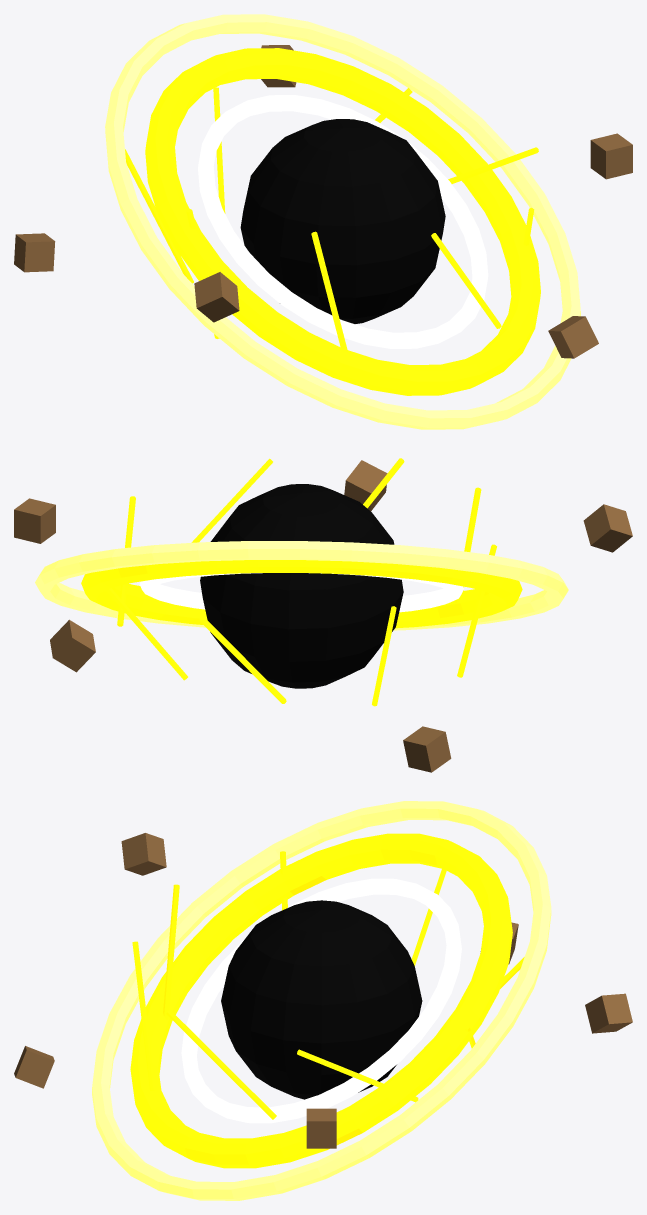
File: boss_singularity.glb
3 views of the same model, one above another, from view 1: azimuth 30°, elevation 25°; view 2: azimuth 150°, elevation 25°; view 3: azimuth 270°, elevation 25° (orthographic). The views are drawn at different scales.
Parts seen in each view (by area): view 1: Torus, Sphere, Torus.002, Torus.001, Cube.003, Cube, Cube.002, Cube.004, Cylinder.003, Cylinder.005, Cylinder.006, Cylinder (+1 smaller); view 2: Sphere, Torus.002, Torus, Torus.001, Cube.003, Cube.002, Cube.001, Cube, Cube.004, Cylinder.002, Cylinder.001, Cylinder.007 (+4 smaller); view 3: Torus, Sphere, Torus.002, Torus.001, Cube.003, Cube.001, Cube, Cube.004, Cylinder.006, Cylinder.007, Cylinder.005, Cylinder.
Part boxes in pixels (x1=…): Torus: x1=145, y1=48, x2=540, y2=395; Sphere: x1=240, y1=119, x2=445, y2=323; Torus.002: x1=105, y1=14, x2=580, y2=429; Torus.001: x1=198, y1=95, x2=488, y2=348; Cube.003: x1=194, y1=272, x2=239, y2=322; Cube: x1=590, y1=133, x2=632, y2=179; Cube.002: x1=14, y1=233, x2=55, y2=272; Cube.004: x1=548, y1=316, x2=598, y2=358; Cylinder.003: x1=125, y1=149, x2=193, y2=283; Cylinder.005: x1=311, y1=231, x2=347, y2=349; Cylinder.006: x1=431, y1=233, x2=501, y2=328; Cylinder: x1=448, y1=147, x2=538, y2=183; Sphere: x1=200, y1=484, x2=403, y2=688; Torus.002: x1=35, y1=541, x2=568, y2=630; Torus: x1=81, y1=560, x2=522, y2=628; Torus.001: x1=139, y1=573, x2=463, y2=612; Cube.003: x1=583, y1=504, x2=632, y2=552; Cube.002: x1=403, y1=726, x2=451, y2=772; Cube.001: x1=50, y1=619, x2=95, y2=672; Cube: x1=14, y1=498, x2=55, y2=543; Cube.004: x1=344, y1=460, x2=387, y2=511; Cylinder.002: x1=199, y1=616, x2=286, y2=703; Cylinder.001: x1=91, y1=572, x2=187, y2=680; Cylinder.007: x1=191, y1=458, x2=272, y2=542; Torus: x1=130, y1=833, x2=512, y2=1168; Sphere: x1=221, y1=900, x2=422, y2=1099; Torus.002: x1=92, y1=801, x2=551, y2=1200; Torus.001: x1=181, y1=878, x2=461, y2=1123; Cube.003: x1=121, y1=833, x2=166, y2=875; Cube.001: x1=585, y1=993, x2=632, y2=1033; Cube: x1=306, y1=1108, x2=336, y2=1148; Cube.004: x1=14, y1=1046, x2=54, y2=1088; Cylinder.006: x1=132, y1=941, x2=155, y2=1090; Cylinder.007: x1=166, y1=1010, x2=276, y2=1119; Cylinder.005: x1=163, y1=884, x2=179, y2=1019; Cylinder: x1=297, y1=1049, x2=418, y2=1102.
Bounding box in the file's own units: 20.4 × 10.24 × 21.52.
